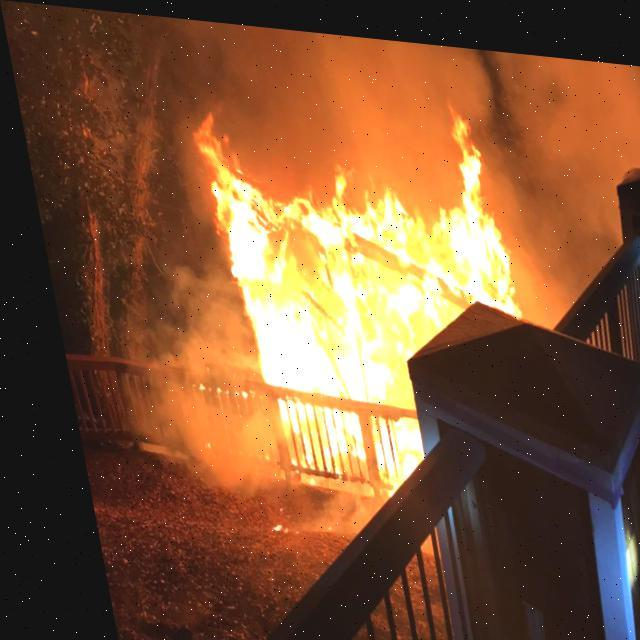Fire: (168, 77, 540, 481)
